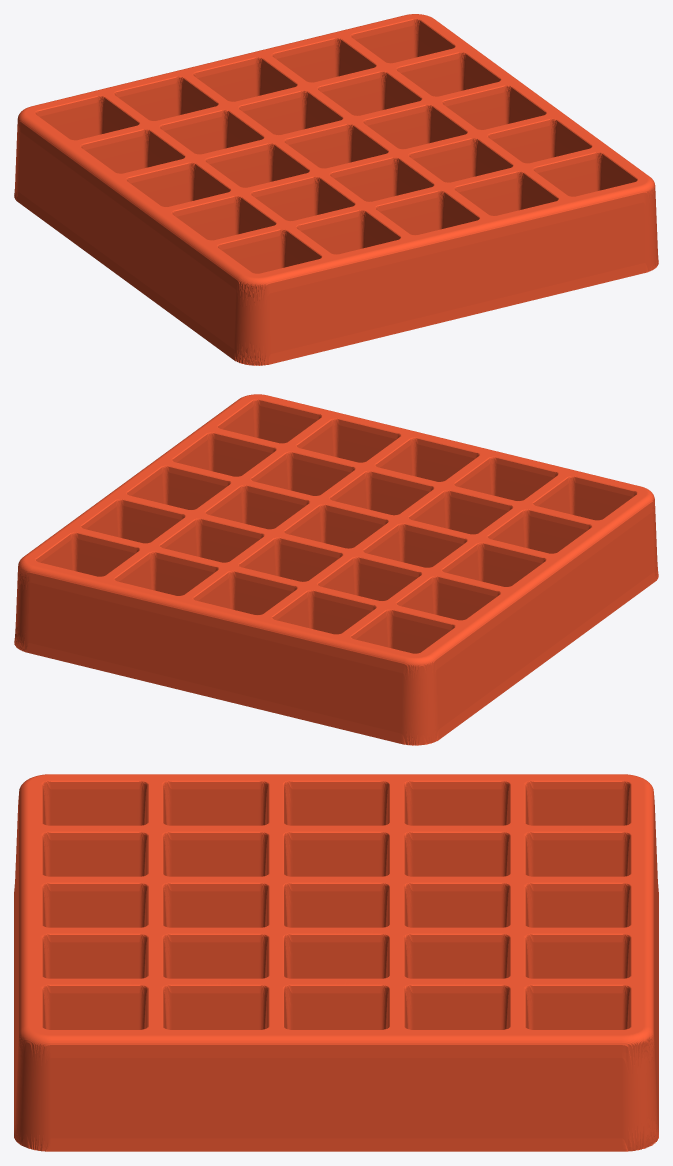
The model's file is mold.glb.
3 views of the same model, one above another, from view 1: azimuth 30°, elevation 25°; view 2: azimuth 150°, elevation 25°; view 3: azimuth 270°, elevation 25° (orthographic). The views are drawn at different scales.
Visible parts, largest first — view 1: geometry_0; view 2: geometry_0; view 3: geometry_0.
Part boxes in pixels (left/top/right/bottom): geometry_0: left=14, top=14, right=658, bottom=365; geometry_0: left=14, top=394, right=658, bottom=745; geometry_0: left=14, top=774, right=658, bottom=1151.
Bounding box in the file's own units: 0.1584 × 0.0299 × 0.1584.
